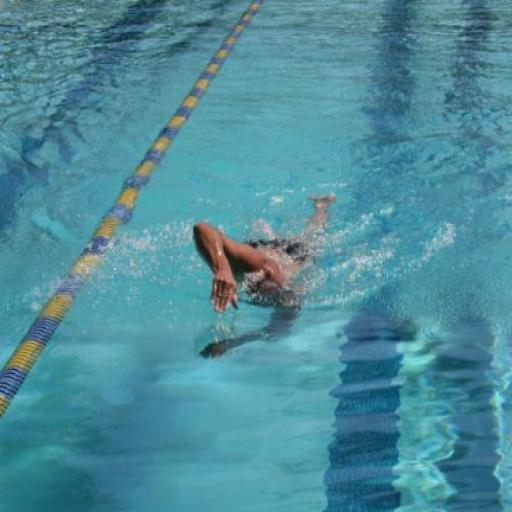swimming: (189, 189, 338, 362)
